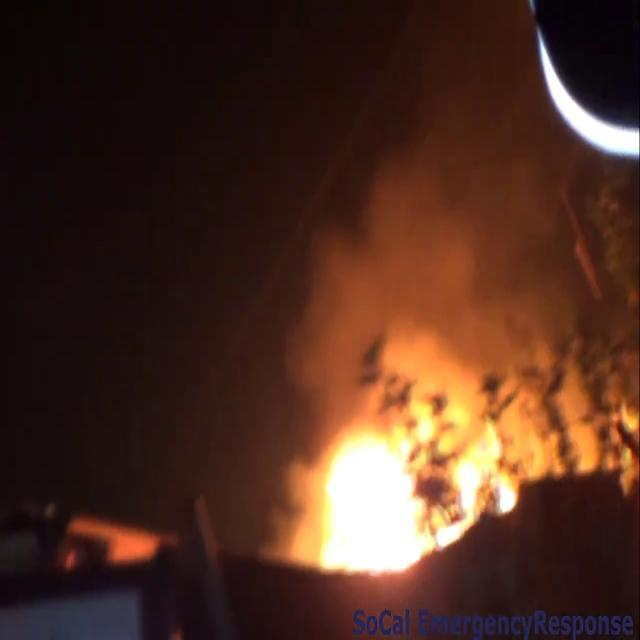Fire: (291, 380, 532, 581)
Smoke: (280, 57, 582, 395)
